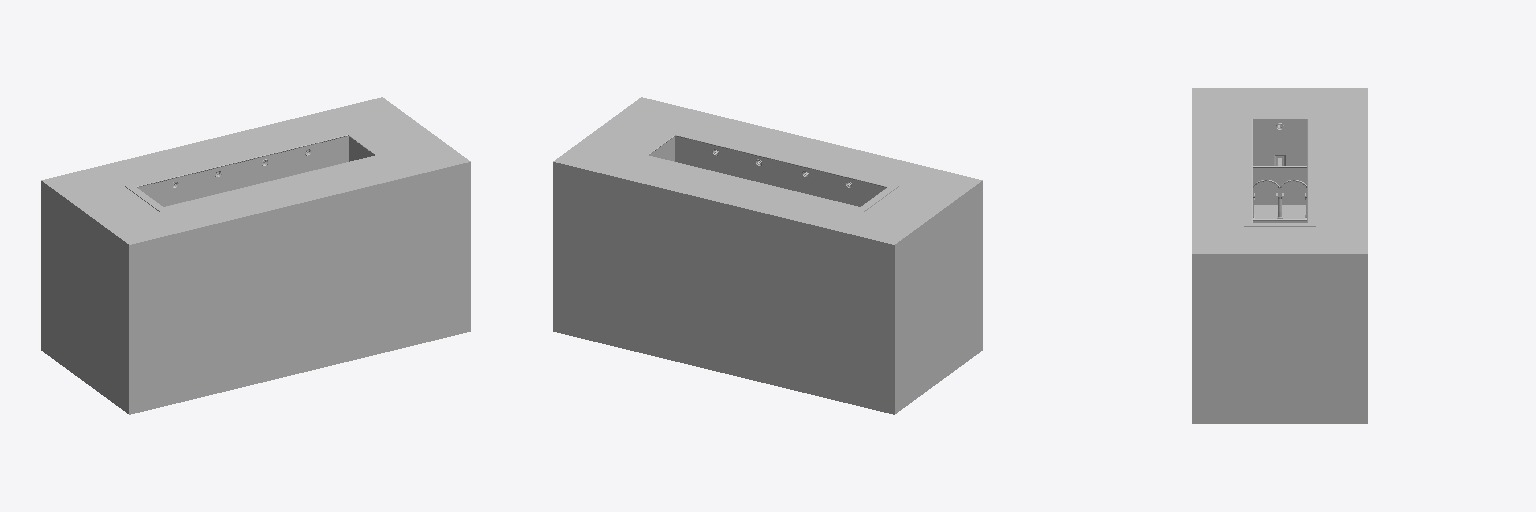
File: cyka.obj
3 views of the same model, side by side, from view 1: azimuth 30°, elevation 25°; view 2: azimuth 150°, elevation 25°; view 3: azimuth 270°, elevation 25° (orthographic).
Size of the model in its own units: 34.82 by 16.56 by 15.6.